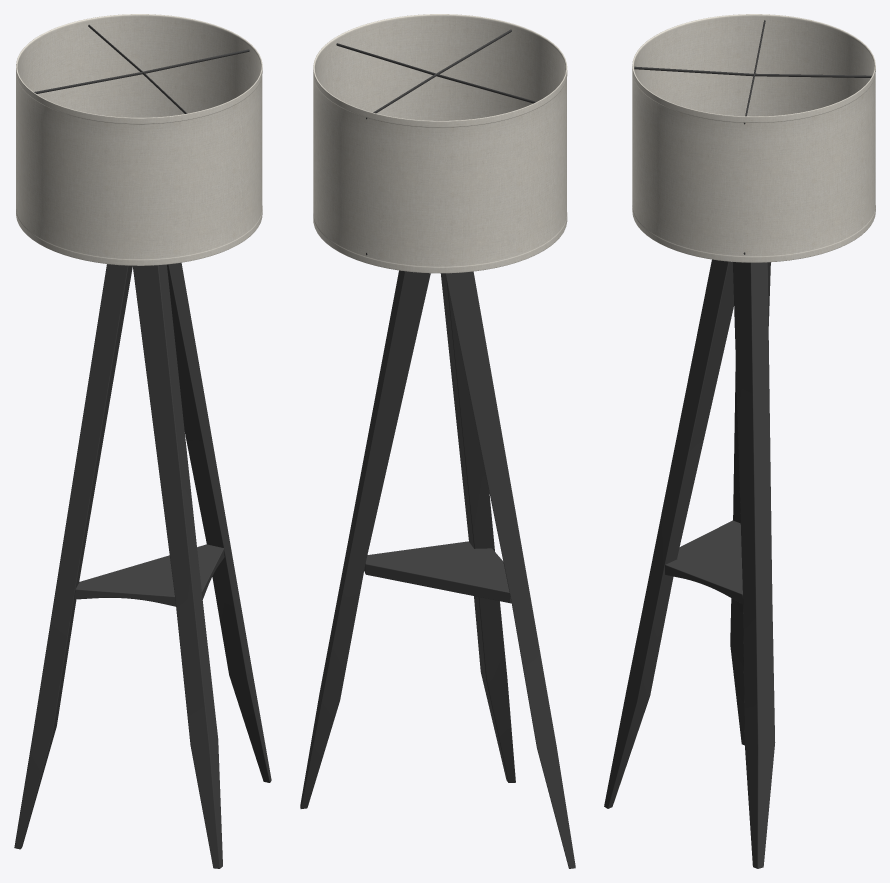
File: aurora_metal_tripod_floor_lamp.glb
3 views of the same model, side by side, from view 1: azimuth 30°, elevation 25°; view 2: azimuth 150°, elevation 25°; view 3: azimuth 270°, elevation 25° (orthographic). The views are drawn at different scales.
Visible parts, largest first — view 1: Object_2; view 2: Object_2; view 3: Object_2.
Part boxes in pixels (x1,y1,x2,y2): Object_2: (14, 14, 271, 868); Object_2: (300, 14, 575, 868); Object_2: (604, 14, 875, 868).
Bounding box in the file's own units: 559 × 1524 × 508.
1 material, 1 textured.
